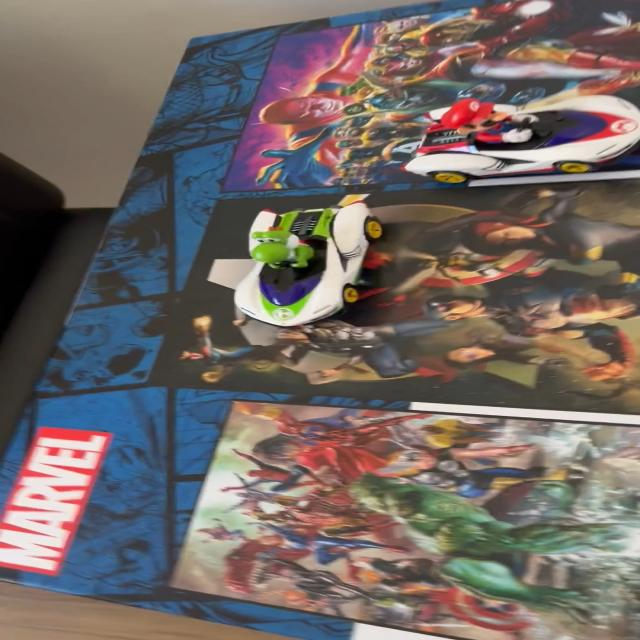mario: (391, 93, 638, 191)
yoshi: (197, 188, 392, 336)
